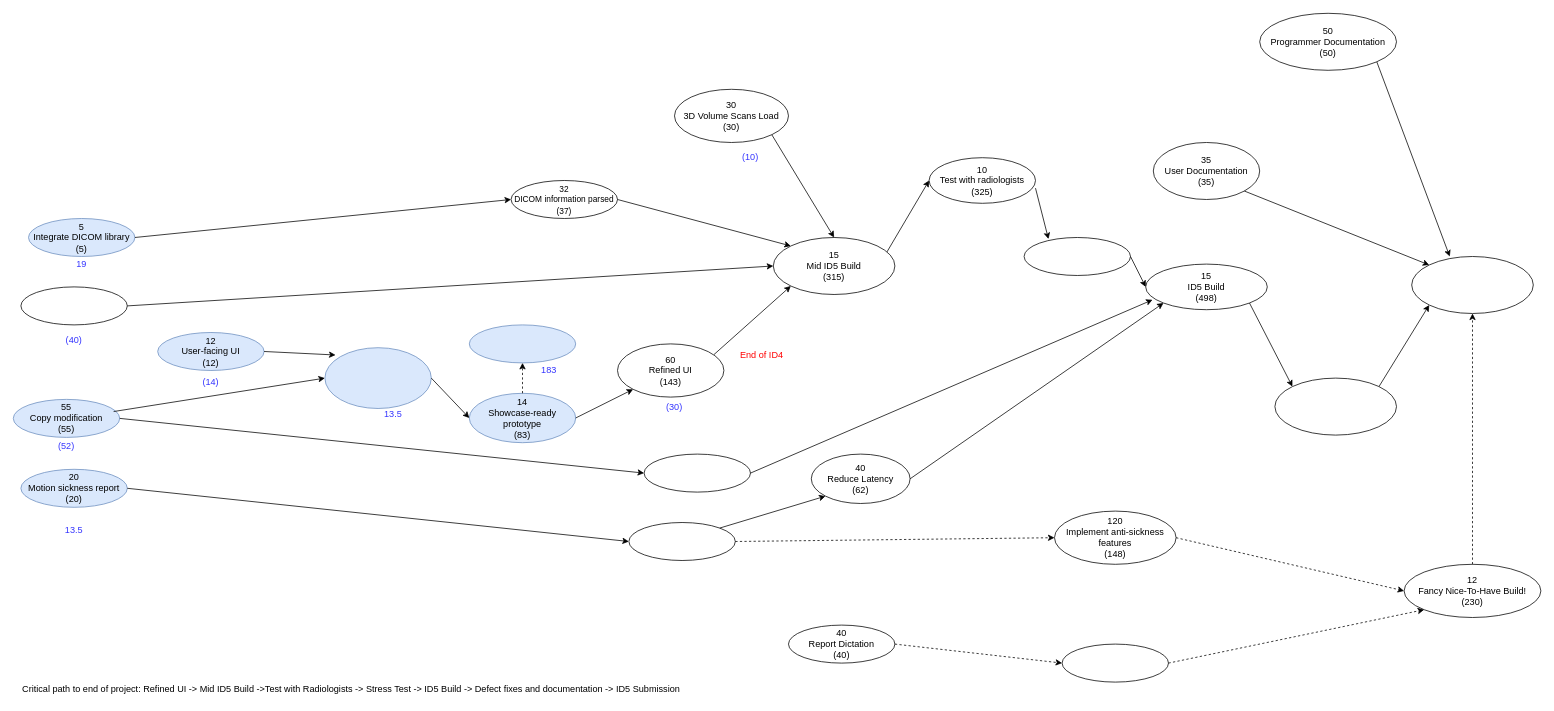
The diagram is 1554 pixels wide and 711 high, and some of its shapes have lost their labels. Here are the shapes that lost their labels. From the top down, the box of each, then its label:
(1023, 237, 1130, 276): 15 Stress test (340)
(1411, 256, 1533, 314): 17 ID5 Submission (640+)
(20, 286, 127, 325): 90 Filesystem Interface (90)
(469, 324, 576, 363): 180 SIIM Application (263)
(324, 347, 431, 408): 10 Formal user testing Session 1 (79)
(1274, 377, 1396, 435): 40 Defect fixes and documentation (538)
(643, 453, 750, 492): 75 Grid for Copies (130)
(628, 522, 735, 560): 8 Design anti-sickness features (21.5)
(1061, 643, 1168, 682): 30 Save/load reports (70)
